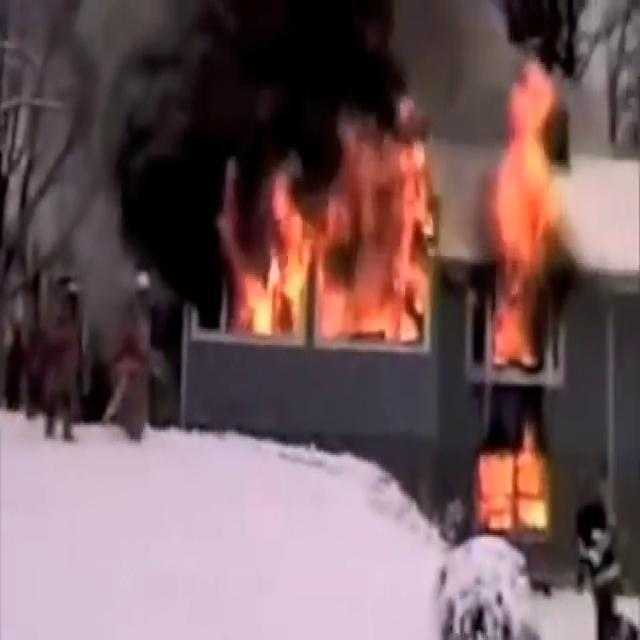Fire: (230, 104, 443, 356), (483, 61, 570, 376), (472, 416, 558, 540)
